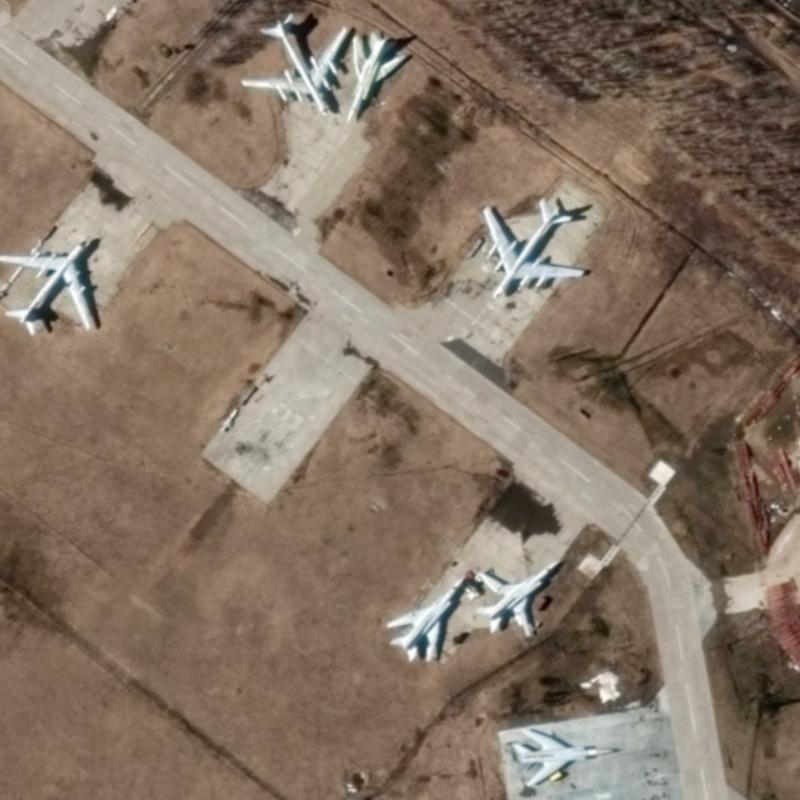A12: (385, 574, 465, 664), (472, 557, 561, 637), (511, 727, 615, 788), (344, 29, 406, 124)
A17: (238, 9, 348, 117), (480, 195, 585, 299), (0, 237, 96, 336)
